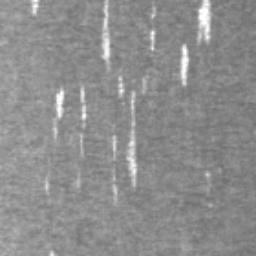White rust: (112, 74, 137, 188), (180, 18, 212, 88), (53, 85, 65, 143), (101, 0, 111, 69), (79, 83, 87, 160), (31, 0, 40, 15), (150, 30, 156, 52), (113, 170, 117, 199), (44, 174, 49, 193), (204, 171, 211, 180)
